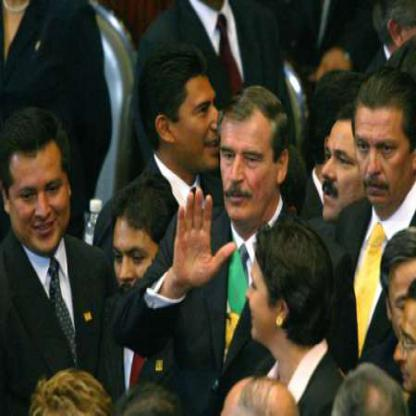face: (217, 88, 281, 227), (6, 123, 72, 255), (169, 50, 227, 178), (317, 104, 374, 231), (114, 200, 165, 317)
